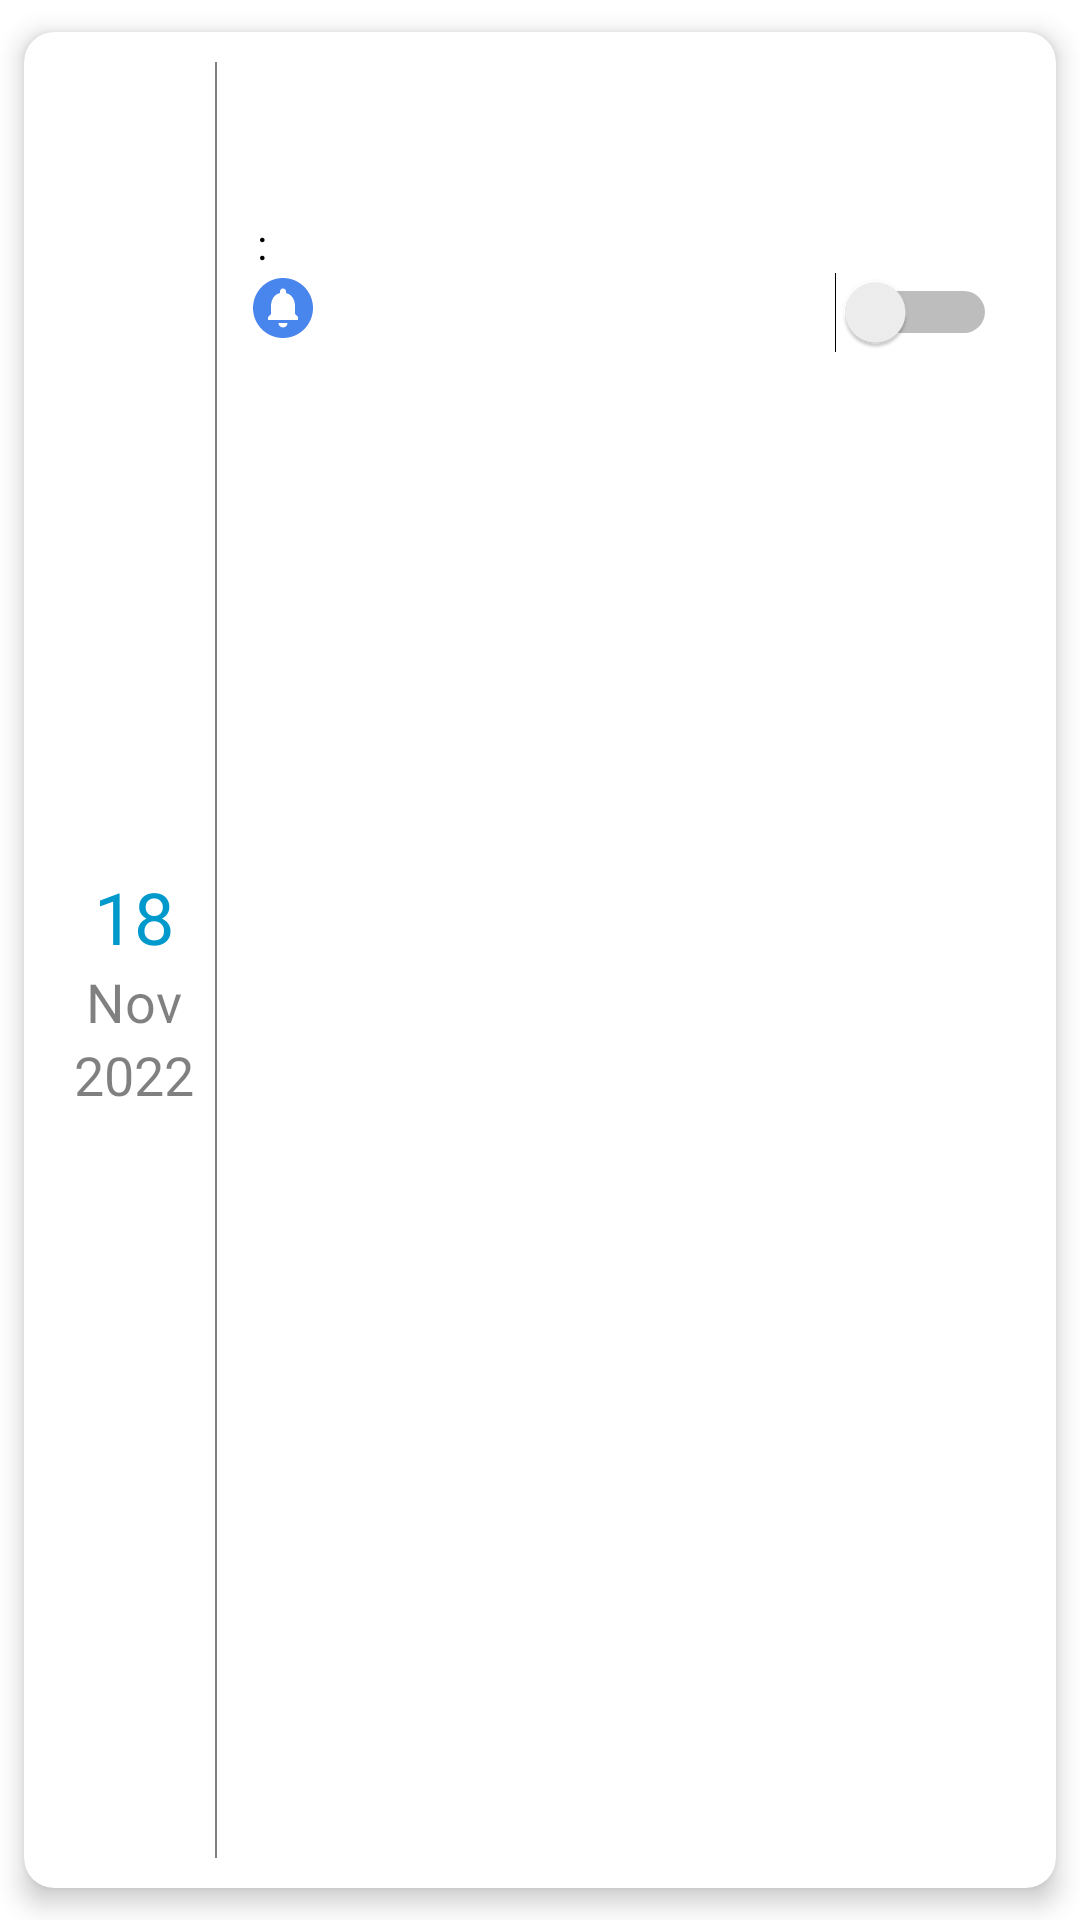

Icons on this 1080×1920 Android screen, each with its box as (x1, y1, x2, y2):
circle notifications: (253, 278, 313, 338)
